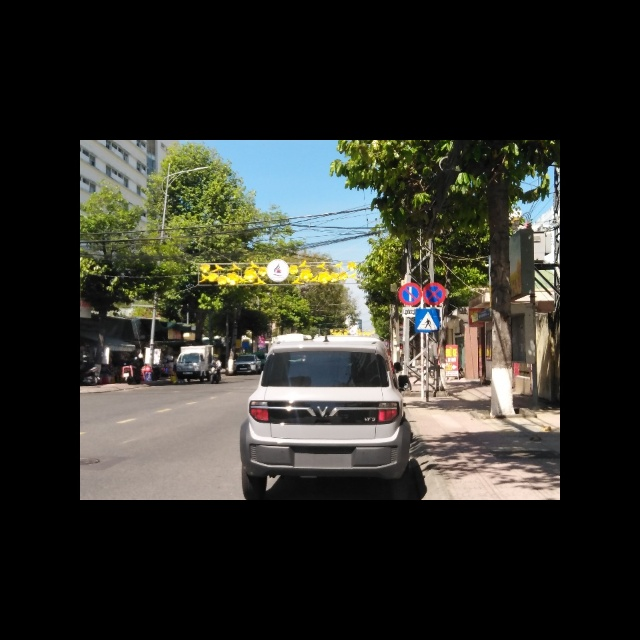Cấm dừng xe và đỗ xe: (423, 282, 445, 305)
Cấm đỗ xe ngày lẻ: (399, 283, 422, 306)
Đường dành cho người đi bộ: (415, 309, 440, 333)
